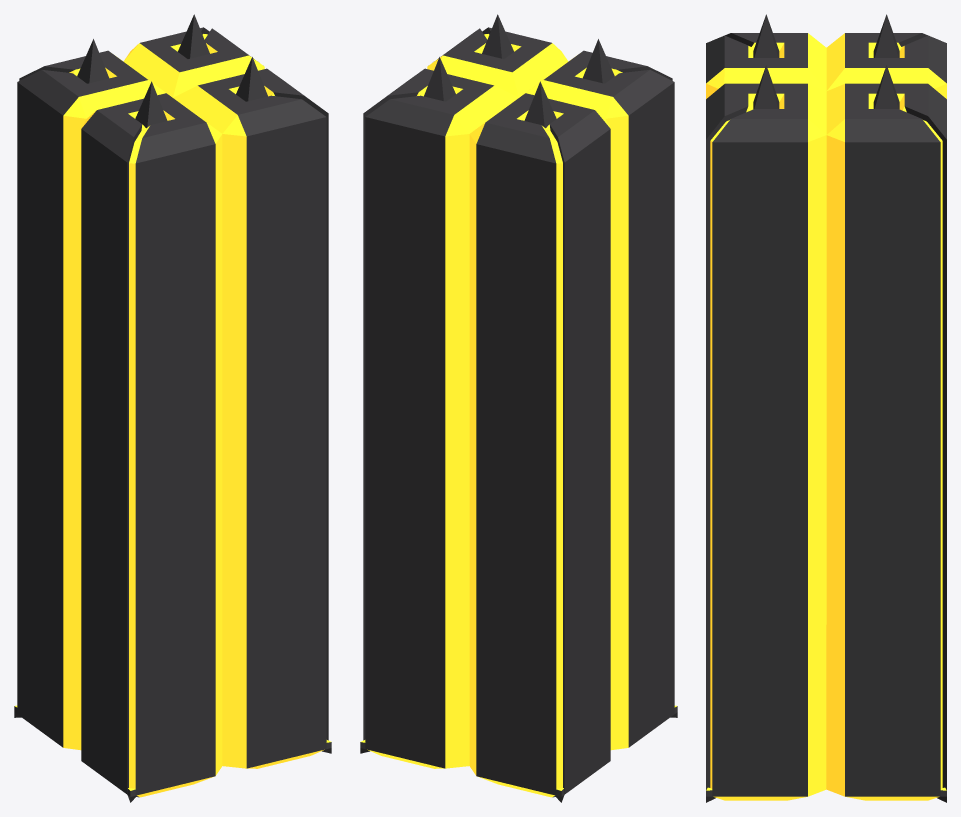
The model's file is Wall_ foundry.fbx.
3 renders of one model, left to right at view 1: azimuth 30°, elevation 25°; view 2: azimuth 150°, elevation 25°; view 3: azimuth 270°, elevation 25°, orthographic. The views are drawn at different scales.
Visible parts, largest first — view 1: Cube; view 2: Cube; view 3: Cube.
Boxes of the visible parts, bbox=[...] form: Cube: bbox=[14, 14, 331, 802]; Cube: bbox=[360, 14, 677, 802]; Cube: bbox=[706, 14, 946, 802].
Size of the model in its own units: 200 by 655 by 200.
